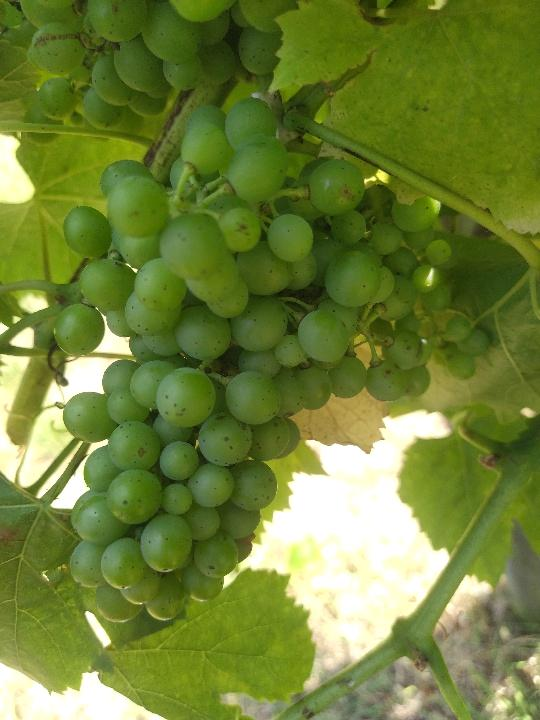grape: (51, 95, 492, 630)
